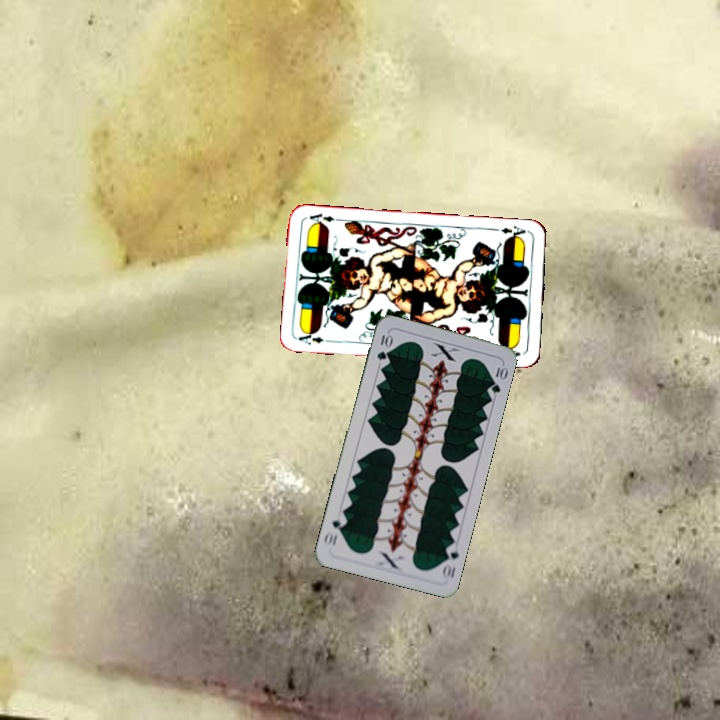EA: (294, 328, 335, 348), (497, 221, 532, 242)
G10: (438, 540, 461, 582), (373, 329, 394, 363)
